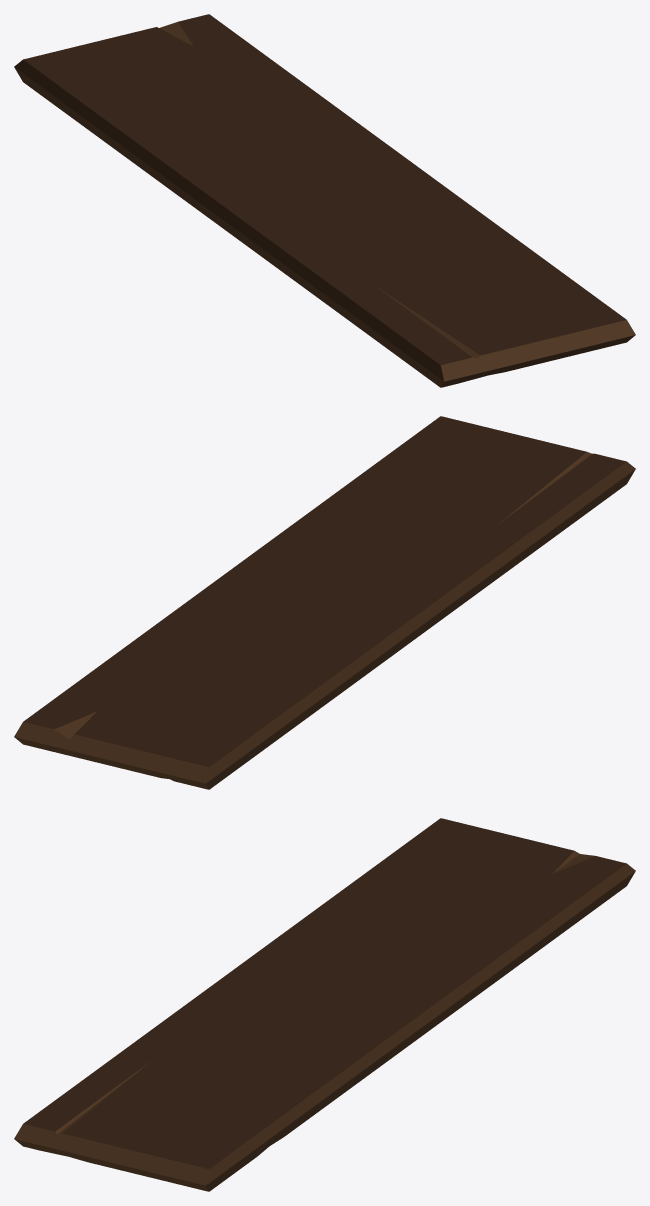
File: Cave_Lair_Wooden_Timber_Plank_Large_02.fbx
3 renders of one model, top to bottom at view 1: azimuth 30°, elevation 25°; view 2: azimuth 150°, elevation 25°; view 3: azimuth 330°, elevation 25°, orthographic.
Visible parts, largest first — view 1: Cave_Lair_Wooden_Timber_Plank_Large_02; view 2: Cave_Lair_Wooden_Timber_Plank_Large_02; view 3: Cave_Lair_Wooden_Timber_Plank_Large_02.
Boxes of the visible parts, <box> form: Cave_Lair_Wooden_Timber_Plank_Large_02: <box>14,14,635,387</box>; Cave_Lair_Wooden_Timber_Plank_Large_02: <box>14,416,635,789</box>; Cave_Lair_Wooden_Timber_Plank_Large_02: <box>14,818,635,1191</box>.
Bounding box in the file's own units: 0.9126 × 0.103 × 3.55.
